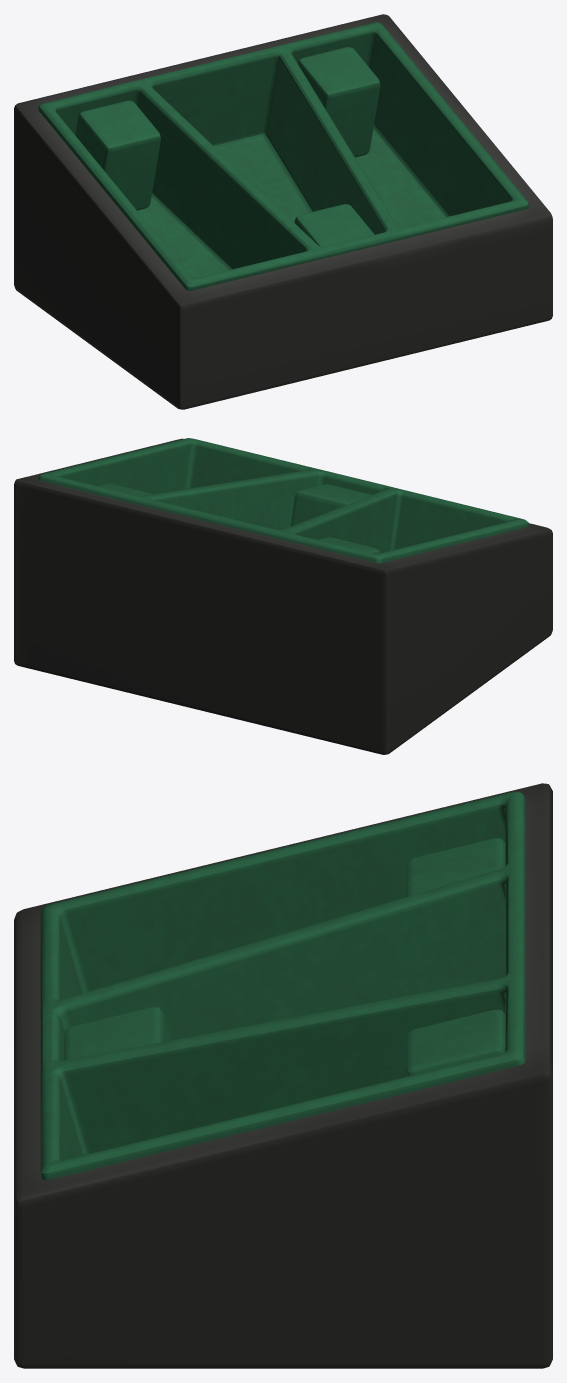
Rendered from YutNori_FinishBoxGreen.fbx.
3 views of the same model, one above another, from view 1: azimuth 30°, elevation 25°; view 2: azimuth 150°, elevation 25°; view 3: azimuth 270°, elevation 25° (orthographic). The views are drawn at different scales.
Visible parts, largest first — view 1: YutNori_FinishBoxGreen; view 2: YutNori_FinishBoxGreen; view 3: YutNori_FinishBoxGreen.
Part boxes in pixels (x1,y1,x2,y2): YutNori_FinishBoxGreen: (14, 14, 552, 409); YutNori_FinishBoxGreen: (14, 438, 552, 754); YutNori_FinishBoxGreen: (14, 783, 552, 1368).
Size of the model in its own units: 6.24 by 3.01 by 4.84.
